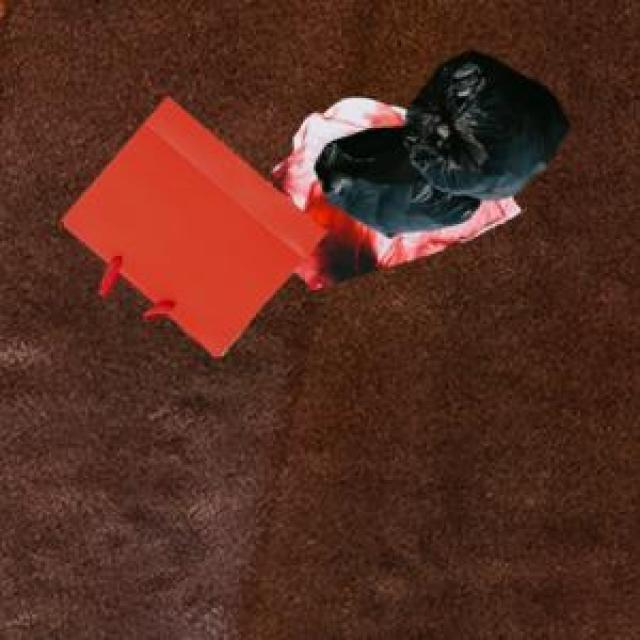miscellaneous trash: (312, 47, 565, 233)
paper: (58, 94, 322, 352)
